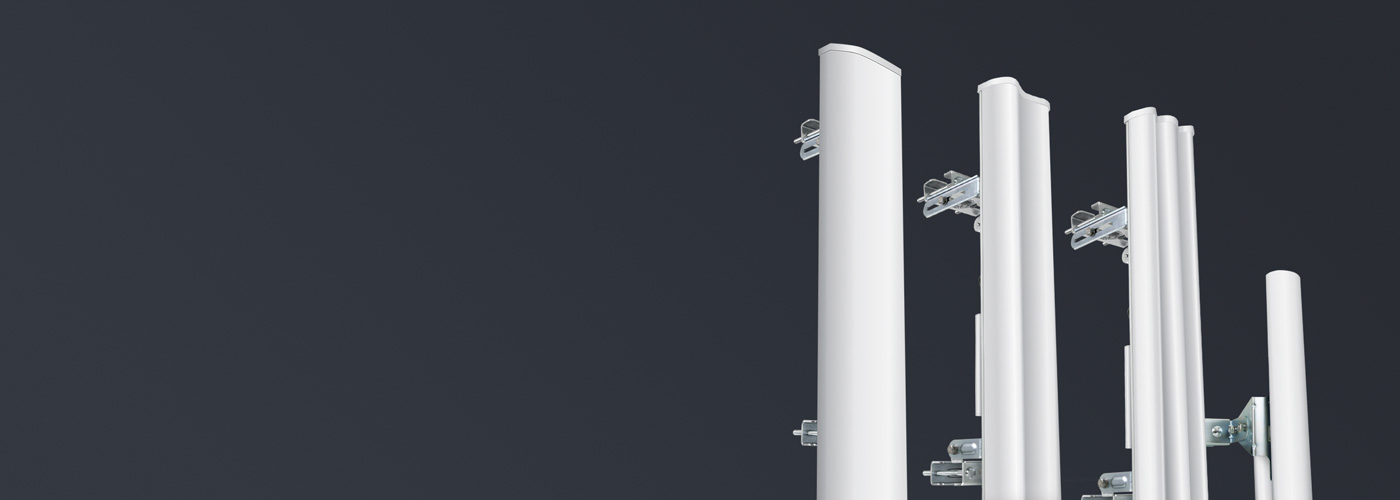sa: (788, 29, 933, 496), (946, 72, 1083, 500), (1099, 94, 1221, 500), (1246, 229, 1327, 488)
